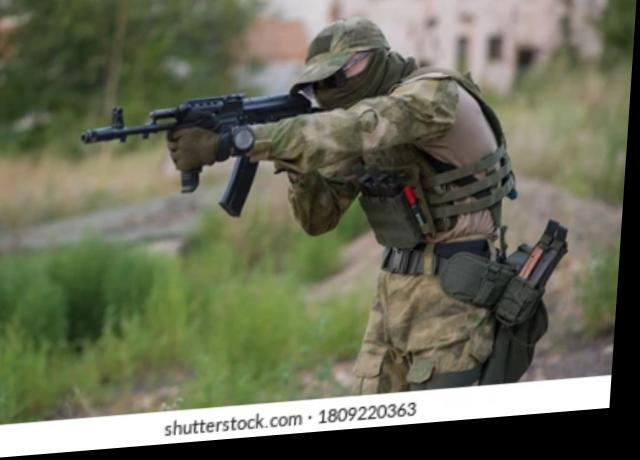other: (229, 14, 551, 386)
